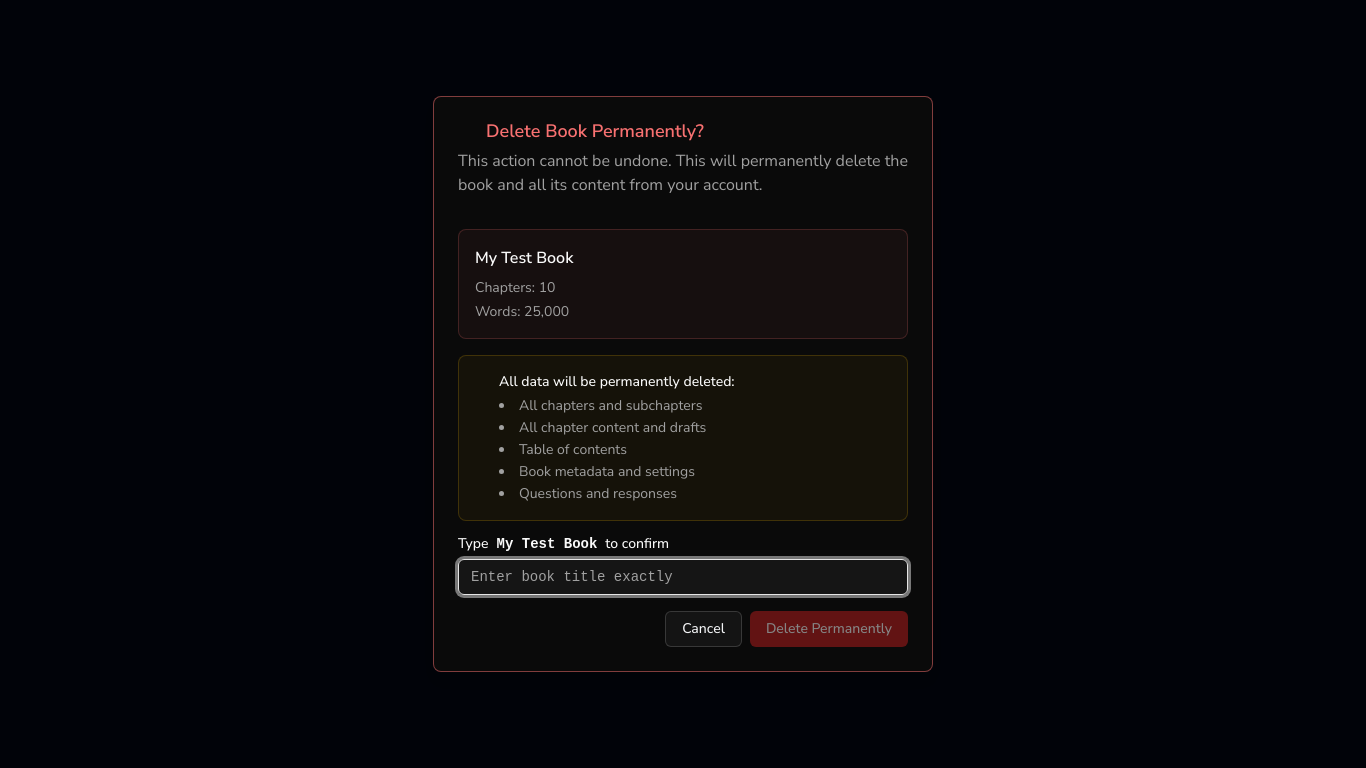
Test case: DeleteBookModal › Confirmation Input › shows error message when title does not match exactly
# Type incorrect title
Type "Wrong Title" into the field with placeholder "Enter book title exactly". click: (683, 577)
box: [458, 559, 908, 595]
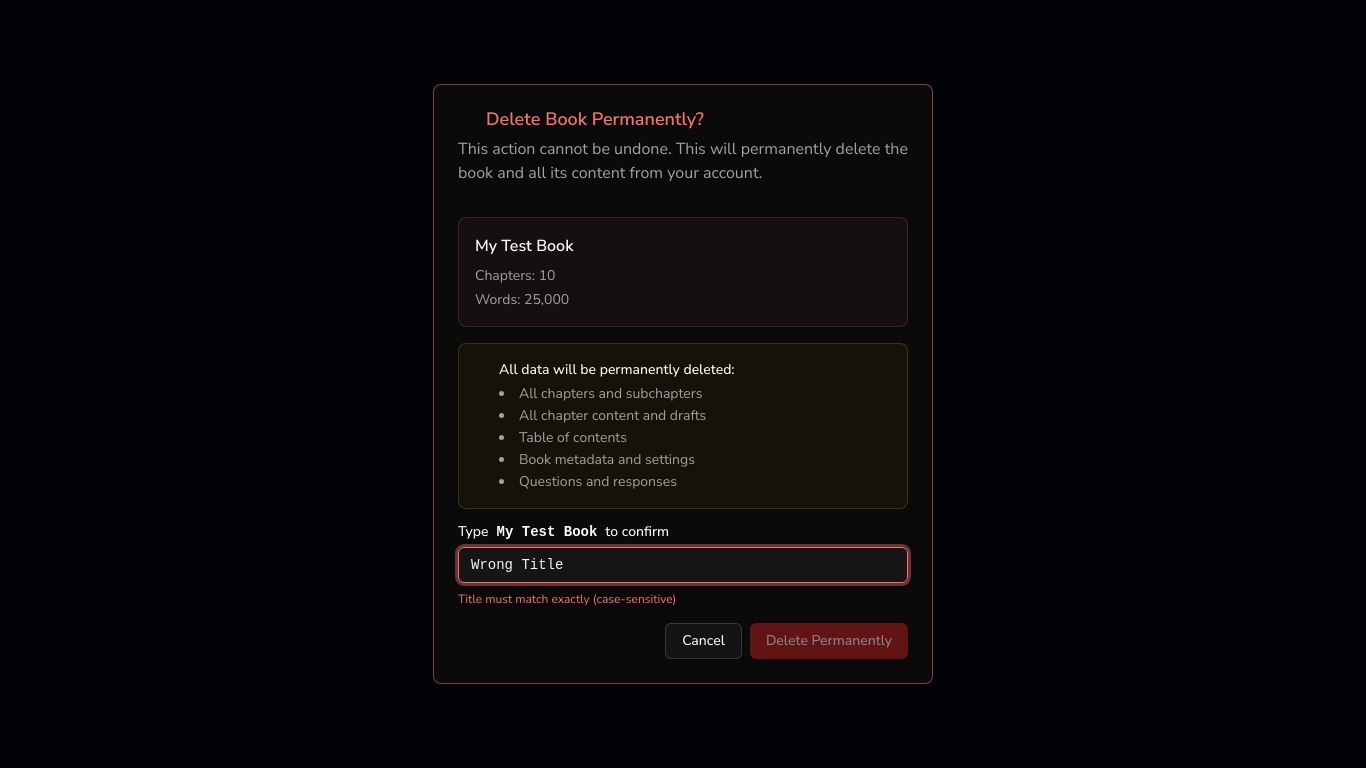
Now the text "Title must match exactly (case-sensitive)" is shown, box [458, 591, 676, 607]
